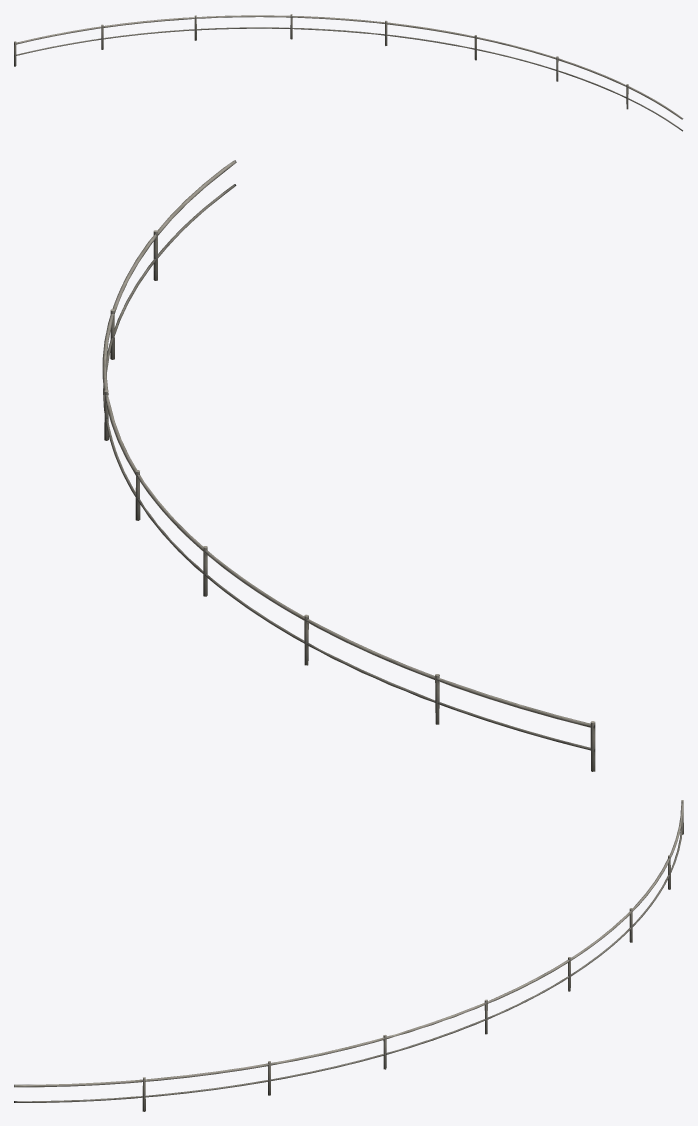
3 views of the same model, one above another, from view 1: azimuth 30°, elevation 25°; view 2: azimuth 150°, elevation 25°; view 3: azimuth 270°, elevation 25° (orthographic). The views are drawn at different scales.
Visible parts, largest first — view 1: body0_model0_lod0_mesh0; view 2: body0_model0_lod0_mesh0; view 3: body0_model0_lod0_mesh0.
Boxes of the visible parts, bbox=[...] form: body0_model0_lod0_mesh0: bbox=[14, 14, 683, 131]; body0_model0_lod0_mesh0: bbox=[102, 160, 595, 771]; body0_model0_lod0_mesh0: bbox=[14, 800, 683, 1111].
Bounding box in the file's own units: 52.19 × 2.87 × 52.08.
1 material, 1 textured.
